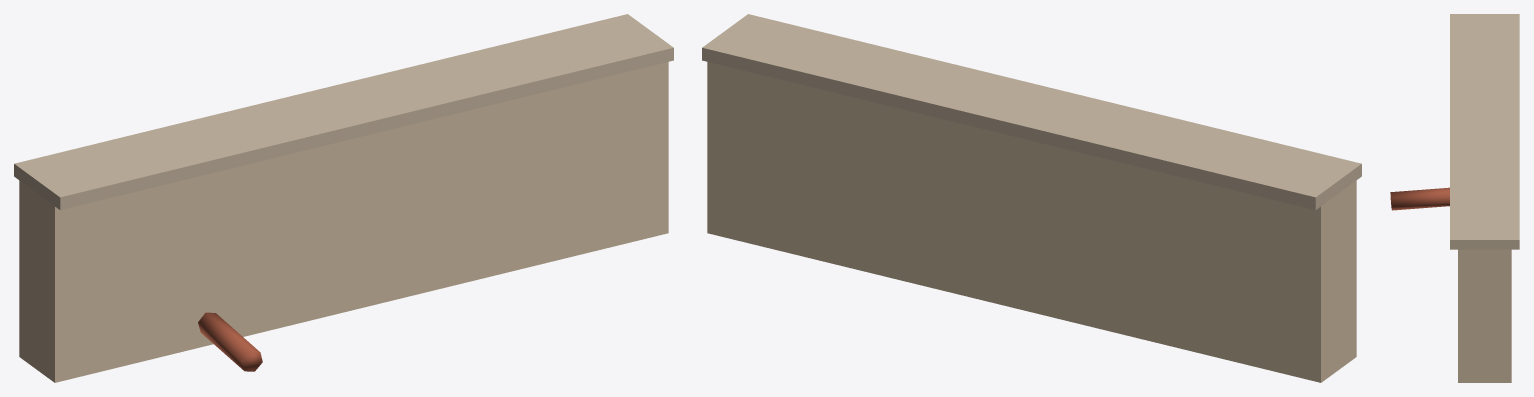
File: city_parapet_4.glb
3 views of the same model, side by side, from view 1: azimuth 30°, elevation 25°; view 2: azimuth 150°, elevation 25°; view 3: azimuth 270°, elevation 25° (orthographic). The views are drawn at different scales.
Visible parts, largest first — view 1: CityParapet4_Wall, CityParapet4_Coping, CityParapet4_Spout; view 2: CityParapet4_Wall, CityParapet4_Coping; view 3: CityParapet4_Coping, CityParapet4_Wall, CityParapet4_Spout.
Part boxes in pixels (bbox=[...]): CityParapet4_Wall: bbox=[19, 62, 668, 382]; CityParapet4_Coping: bbox=[14, 14, 673, 210]; CityParapet4_Spout: bbox=[198, 312, 262, 371]; CityParapet4_Wall: bbox=[707, 62, 1356, 382]; CityParapet4_Coping: bbox=[702, 14, 1361, 210]; CityParapet4_Coping: bbox=[1450, 14, 1519, 249]; CityParapet4_Wall: bbox=[1458, 249, 1511, 382]; CityParapet4_Spout: bbox=[1390, 187, 1449, 210].
Size of the model in its own units: 4 by 1.18 by 0.9656.
